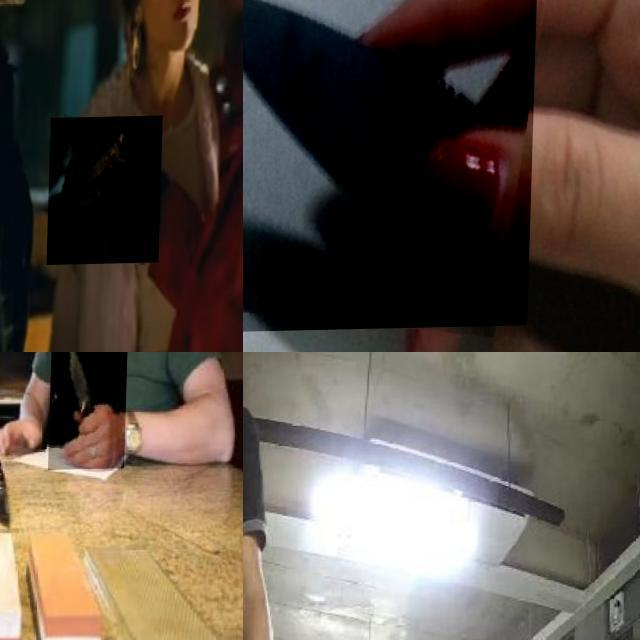-: (243, 0, 538, 334), (50, 352, 129, 471)
gun-knife-thesis - v11 Yolov5 augmented: (50, 117, 166, 266)
